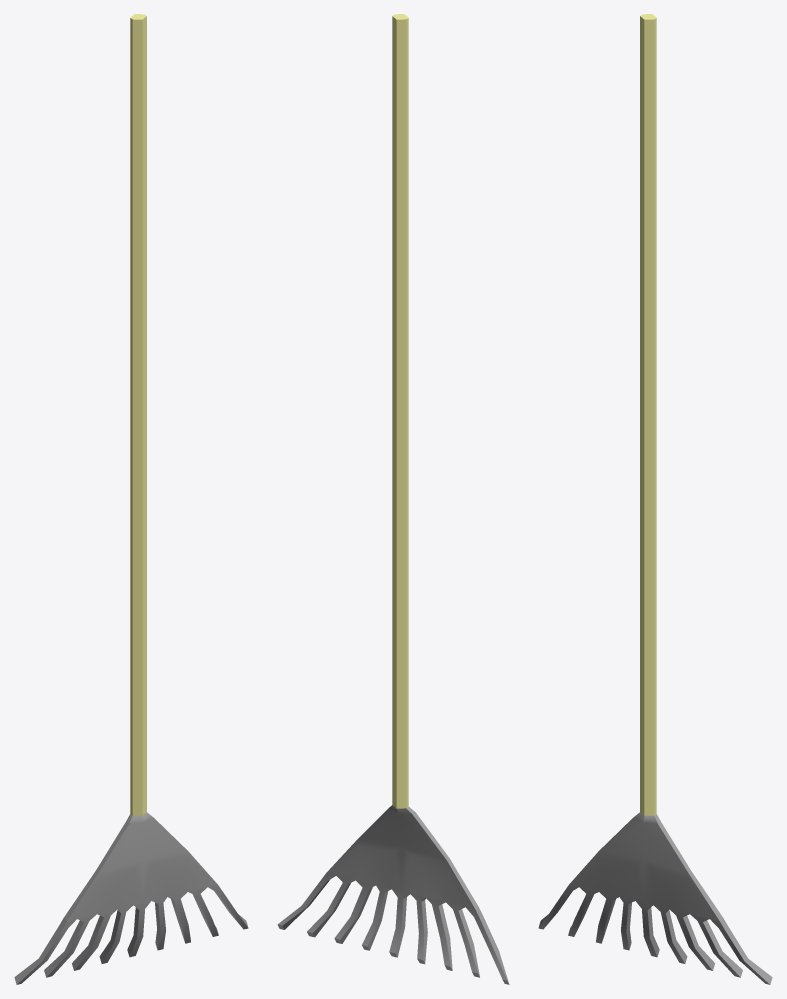
File: rake.fbx
The picture shows the model from 3 angles, left to right: view 1: azimuth 30°, elevation 25°; view 2: azimuth 150°, elevation 25°; view 3: azimuth 330°, elevation 25°; orthographic projection.
Parts seen in each view (by area): view 1: geo_rake; view 2: geo_rake; view 3: geo_rake.
Part boxes in pixels (<box>): geo_rake: <box>14,14,248,984</box>; geo_rake: <box>277,14,509,984</box>; geo_rake: <box>538,14,772,984</box>.
Bounding box in the file's own units: 0.4091 × 1.59 × 0.041.
